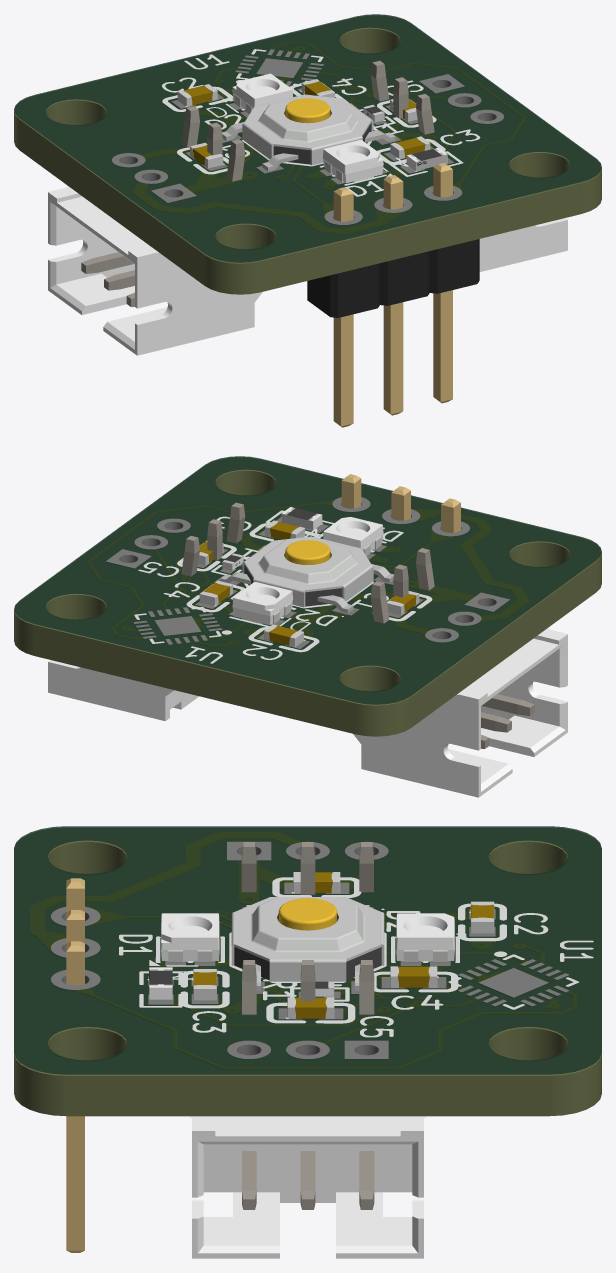
The model's file is one-button.glb.
3 views of the same model, one above another, from view 1: azimuth 30°, elevation 25°; view 2: azimuth 150°, elevation 25°; view 3: azimuth 270°, elevation 25° (orthographic). The views are drawn at different scales.
Parts seen in each view (by area): view 1: object 12, J1, object 6, J2, D1, D2, object 9, C2, C3; view 2: object 12, J1, object 6, J2, D2, D1, object 9, C2, C4, C3, C1; view 3: object 12, J2, object 6, D1, D2, J1, object 9, C4, C5, C2, C3, C1.
Part boxes in pixels (left/top/right/bottom): object 12: left=14, top=14, right=601, bottom=427; J1: left=48, top=106, right=262, bottom=355; object 6: left=222, top=94, right=426, bottom=171; J2: left=370, top=60, right=567, bottom=271; D1: left=323, top=140, right=383, bottom=183; D2: left=232, top=73, right=292, bottom=114; object 9: left=363, top=105, right=447, bottom=170; C2: left=177, top=84, right=217, bottom=106; C3: left=390, top=136, right=430, bottom=158; object 12: left=14, top=456, right=601, bottom=736; J1: left=353, top=548, right=567, bottom=797; object 6: left=220, top=536, right=393, bottom=613; J2: left=48, top=502, right=245, bottom=721; D2: left=232, top=582, right=293, bottom=625; D1: left=323, top=517, right=383, bottom=556; object 9: left=222, top=507, right=322, bottom=570; C2: left=264, top=624, right=303, bottom=647; C4: left=199, top=580, right=232, bottom=605; C3: left=265, top=520, right=304, bottom=539; C1: left=387, top=591, right=419, bottom=615; object 12: left=14, top=826, right=601, bottom=1252; J2: left=192, top=960, right=423, bottom=1258; object 6: left=149, top=897, right=384, bottom=990; D1: left=161, top=913, right=219, bottom=962; D2: left=396, top=913, right=454, bottom=962; J1: left=241, top=842, right=373, bottom=895; object 9: left=149, top=967, right=334, bottom=999; C4: left=390, top=966, right=437, bottom=988; C5: left=287, top=997, right=334, bottom=1019; C2: left=470, top=901, right=494, bottom=933; C3: left=193, top=969, right=216, bottom=1000; C1: left=293, top=872, right=340, bottom=893.
Bounding box in the file's own units: 0.022 × 0.0119 × 0.02.
